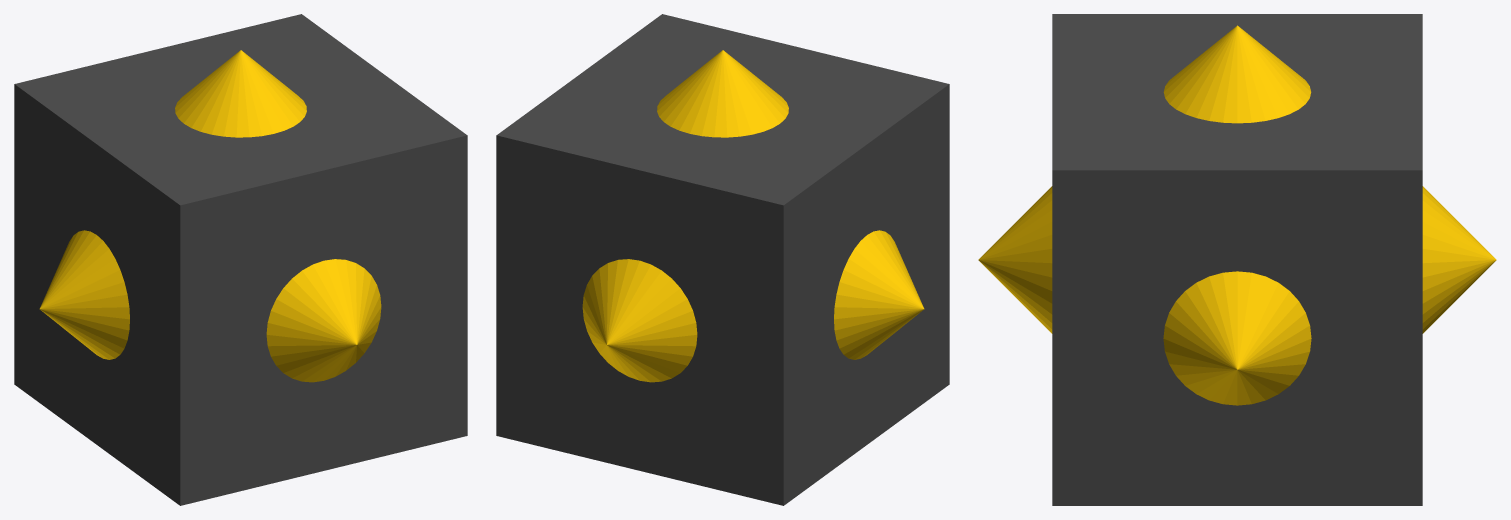
Rendered from SpikeBlock.obj.
The picture shows the model from 3 angles, left to right: view 1: azimuth 30°, elevation 25°; view 2: azimuth 150°, elevation 25°; view 3: azimuth 270°, elevation 25°; orthographic projection. The views are drawn at different scales.
Visible parts, largest first — view 1: 円錐; view 2: 円錐; view 3: 円錐.
Part boxes in pixels (left/top/right/bottom): 円錐: left=14, top=14, right=467, bottom=505; 円錐: left=496, top=14, right=949, bottom=505; 円錐: left=978, top=14, right=1496, bottom=505.
Size of the model in its own units: 1.4 by 1.4 by 1.4.
